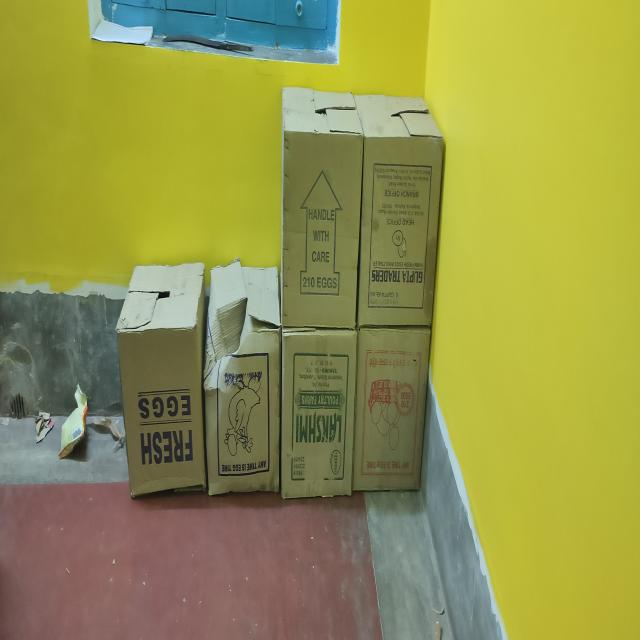squeeze: (205, 271, 250, 383)
